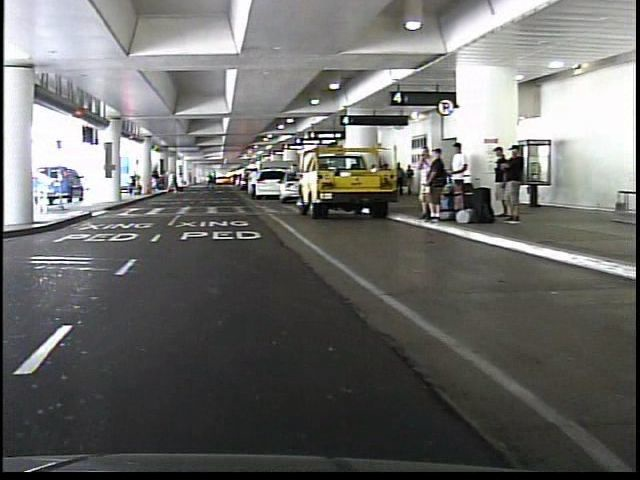person: (500, 144, 519, 225), (408, 145, 427, 217), (158, 165, 173, 199), (242, 165, 257, 198)
